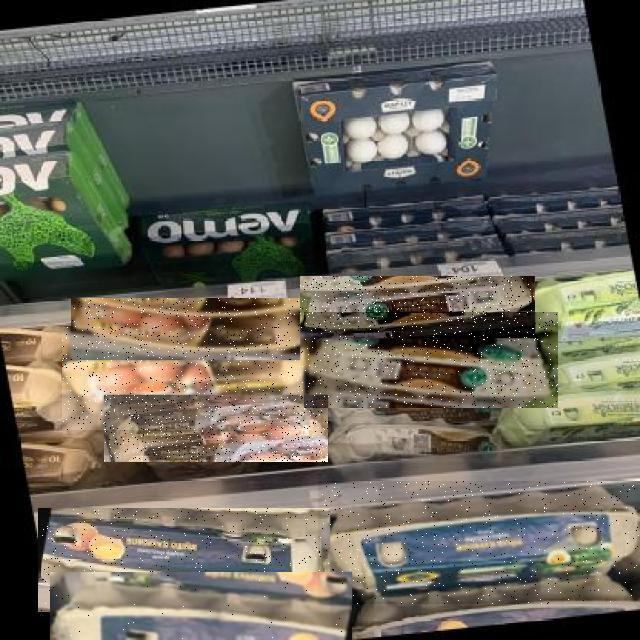Eggs: (318, 481, 640, 604), (38, 508, 330, 612), (62, 327, 313, 430), (305, 312, 559, 408), (50, 572, 352, 640), (104, 395, 328, 462), (300, 276, 535, 338), (71, 298, 300, 360)
